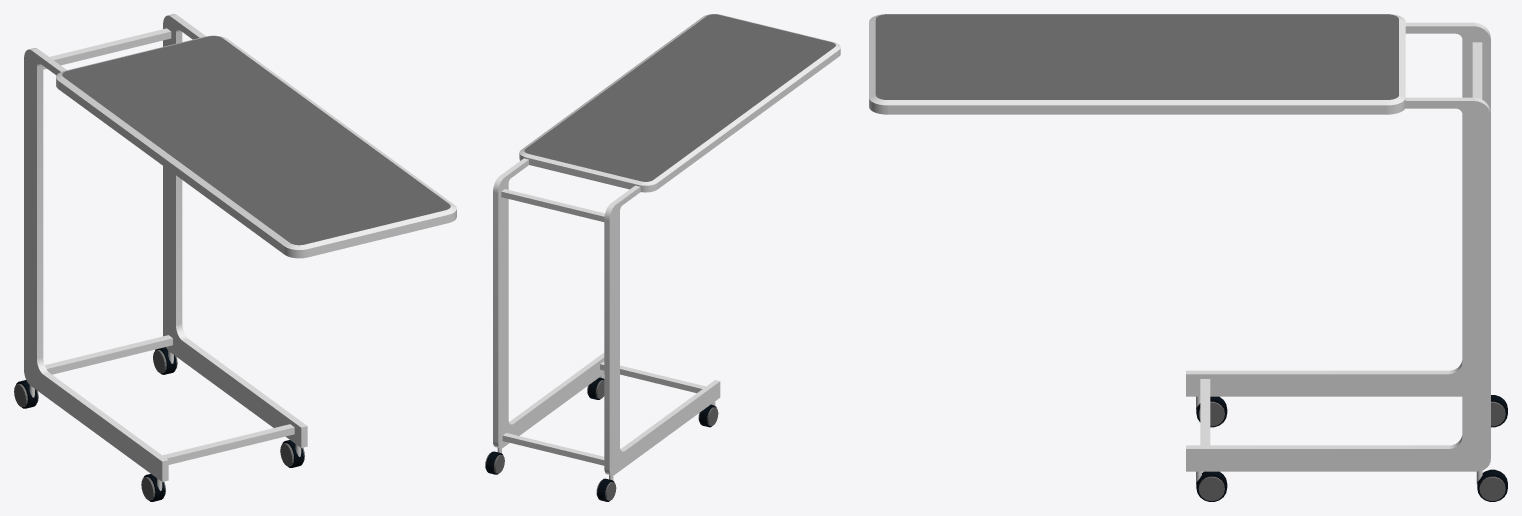
File: Cart hospital.FBX
The picture shows the model from 3 angles, left to right: view 1: azimuth 30°, elevation 25°; view 2: azimuth 150°, elevation 25°; view 3: azimuth 270°, elevation 25°; orthographic projection. The views are drawn at different scales.
Parts seen in each view (by area): view 1: cart hospital; view 2: cart hospital; view 3: cart hospital.
Part boxes in pixels (<box>): cart hospital: <box>14,14,456,501</box>; cart hospital: <box>485,14,840,501</box>; cart hospital: <box>869,14,1507,501</box>.
Bounding box in the file's own units: 31.88 × 65.81 × 94.14.
1 material, 1 textured.
